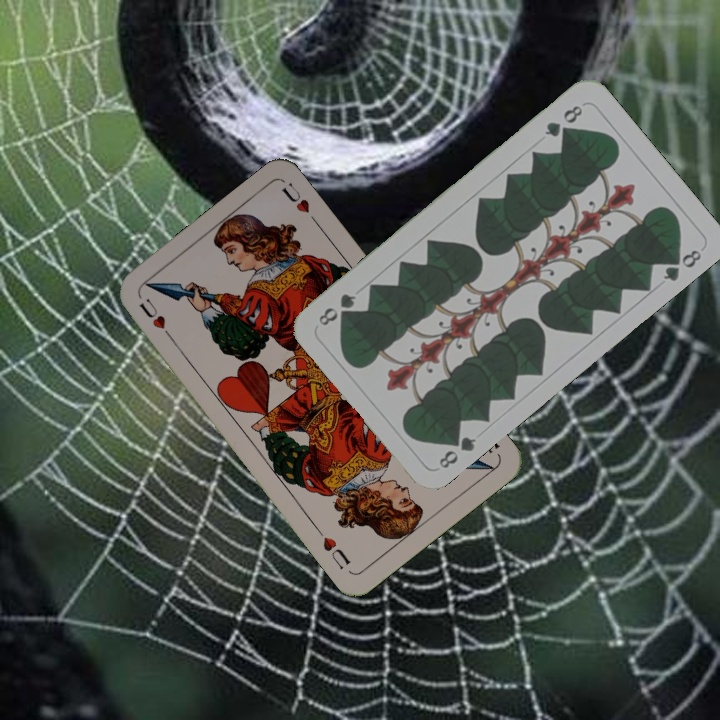G8: (435, 428, 479, 471), (540, 101, 585, 140)
HU: (135, 294, 177, 344)
